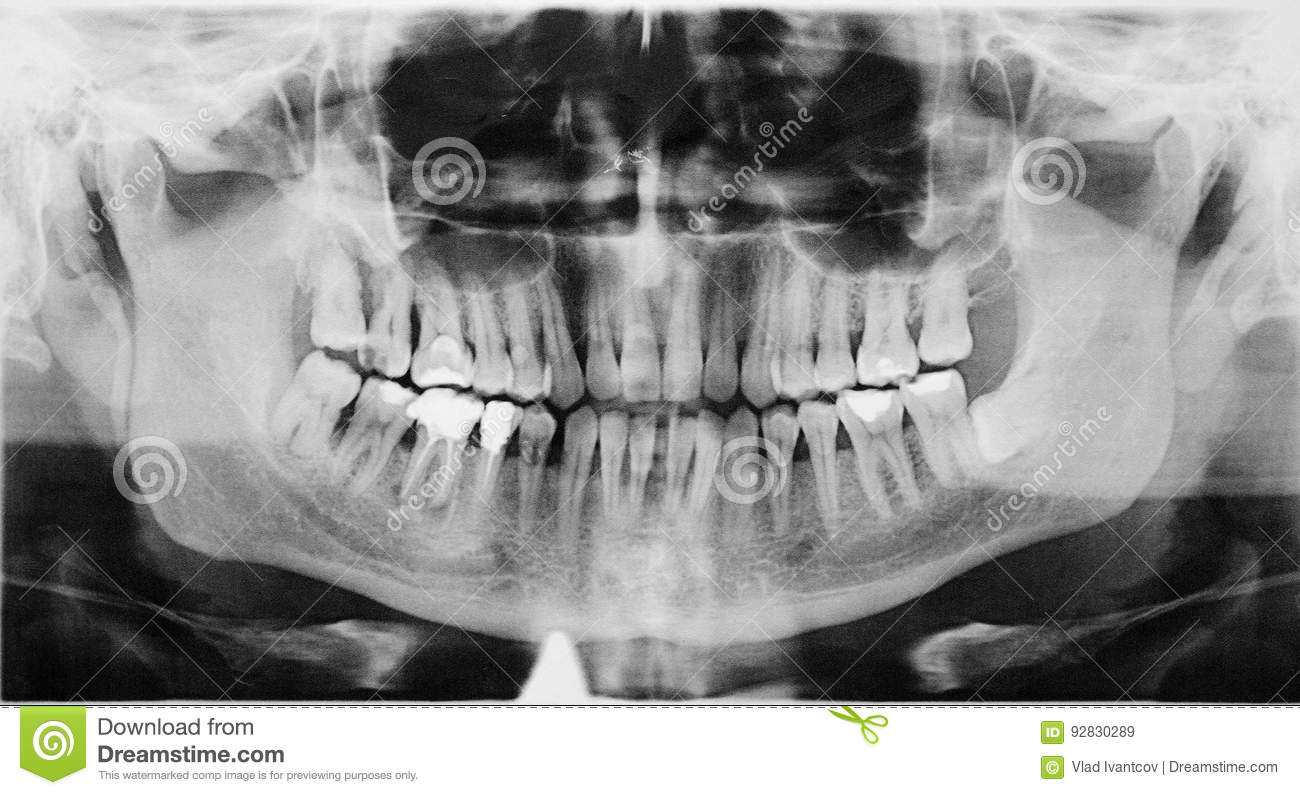canine: (531, 259, 588, 415), (552, 397, 603, 569), (738, 249, 789, 415), (719, 400, 764, 550)
incisor: (610, 251, 667, 406), (576, 249, 631, 408), (658, 250, 706, 407), (683, 398, 730, 542), (699, 254, 740, 413), (592, 395, 636, 538), (659, 405, 700, 545), (622, 400, 661, 541)
molar: (827, 367, 930, 533), (330, 357, 427, 512), (262, 334, 364, 473), (397, 371, 484, 532), (898, 365, 992, 502), (400, 253, 481, 398), (298, 219, 378, 363), (851, 248, 928, 391), (915, 245, 983, 377), (353, 244, 416, 385)
premolar: (765, 240, 821, 409), (465, 381, 525, 535), (790, 391, 851, 542), (463, 242, 518, 409), (498, 253, 556, 404), (807, 246, 861, 399), (758, 391, 806, 537), (511, 393, 557, 540)
